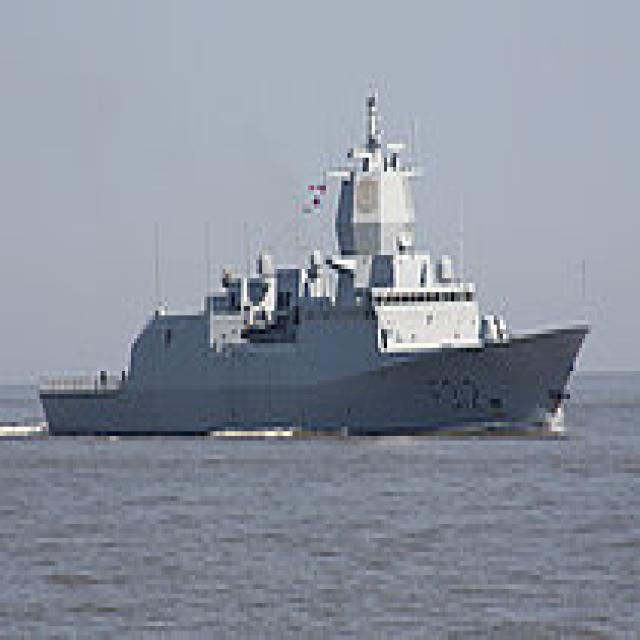Warship: (34, 83, 591, 436)
